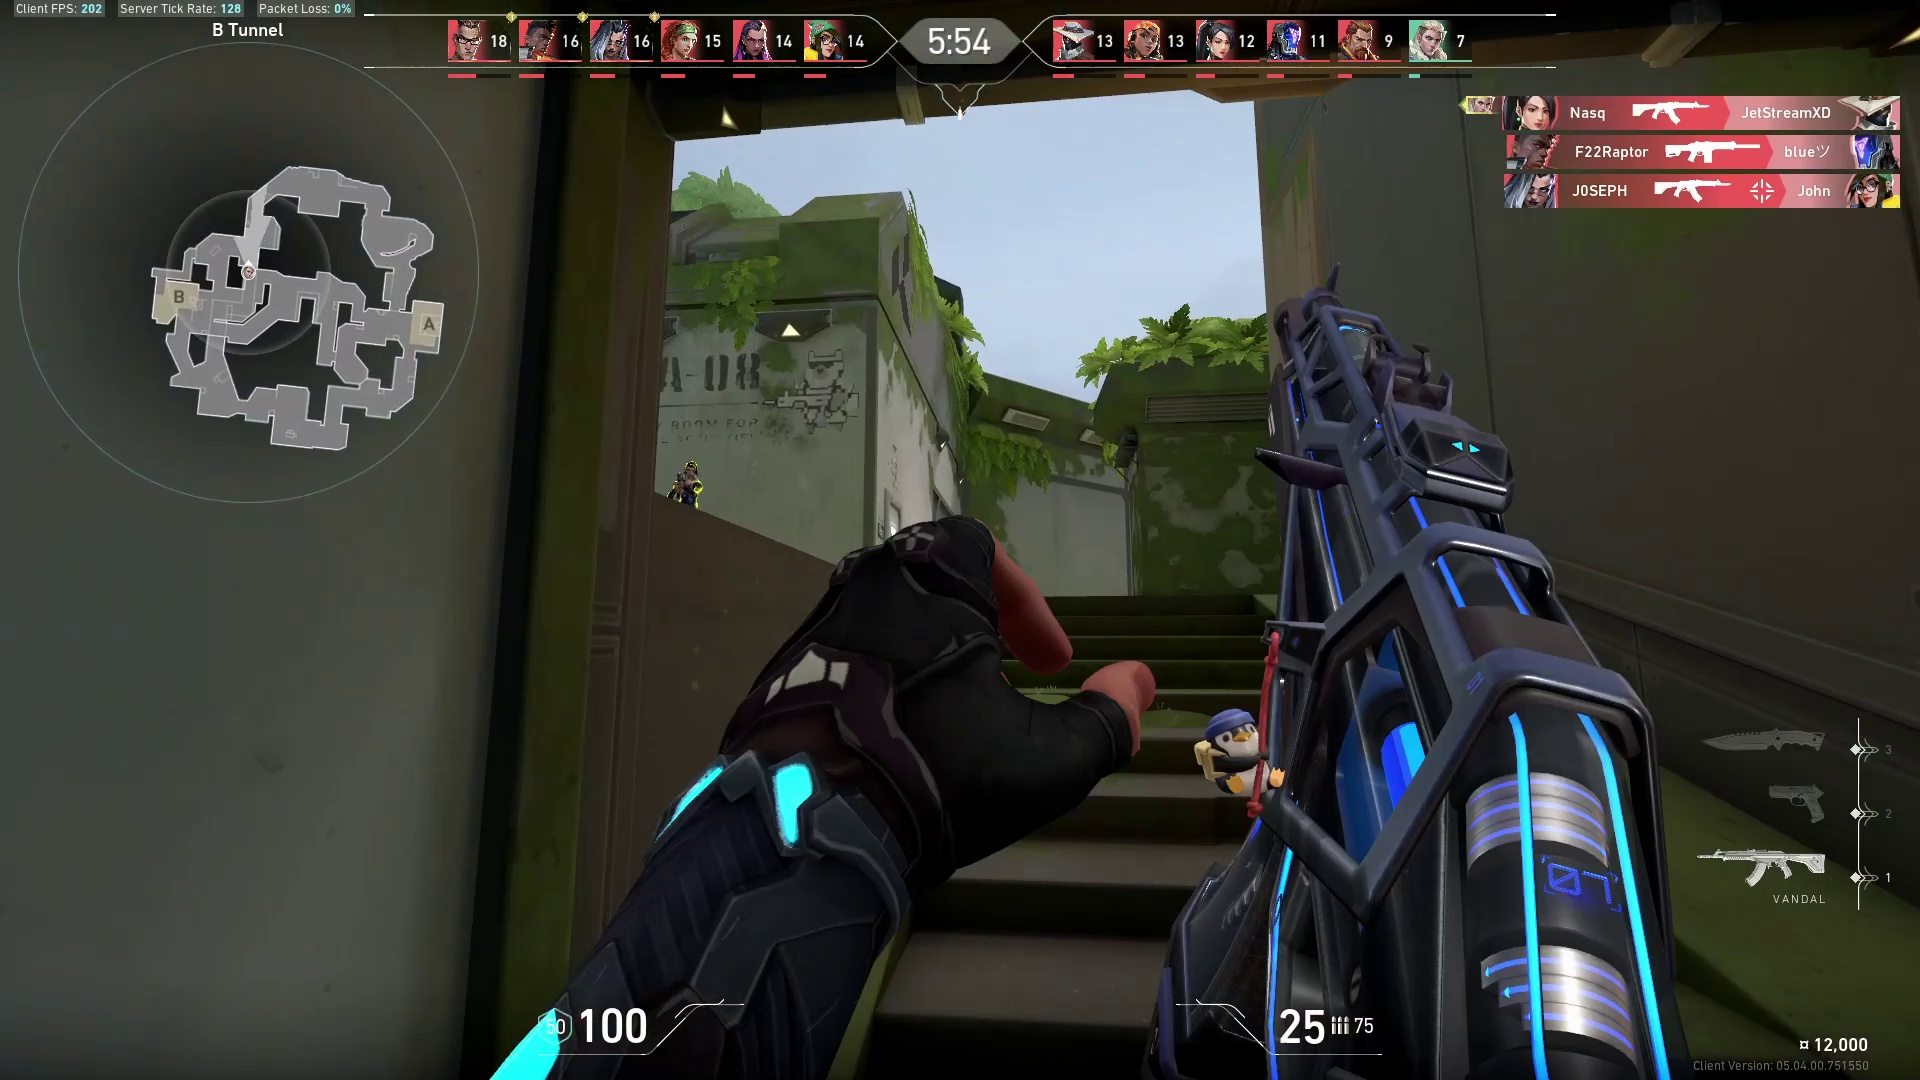enemy_body: (665, 479, 708, 509)
enemy_head: (680, 456, 703, 480)
